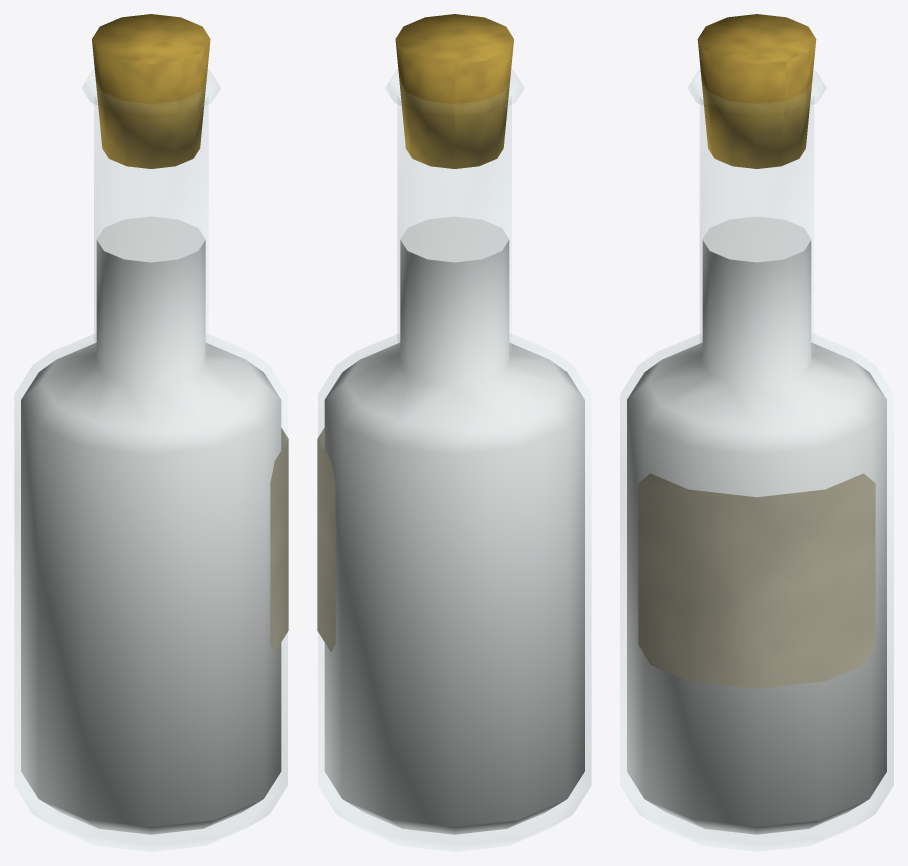
The model's file is cylindrical-long_neck.glb.
3 views of the same model, side by side, from view 1: azimuth 30°, elevation 25°; view 2: azimuth 150°, elevation 25°; view 3: azimuth 270°, elevation 25° (orthographic).
Visible parts, largest first — view 1: liquid-cylindrical-long_neck, cylindrical-long_neck, cork-cylindrical-long_neck, tag-cylindrical-long_neck; view 2: liquid-cylindrical-long_neck, cylindrical-long_neck, cork-cylindrical-long_neck, tag-cylindrical-long_neck; view 3: liquid-cylindrical-long_neck, tag-cylindrical-long_neck, cylindrical-long_neck, cork-cylindrical-long_neck.
Part boxes in pixels (x1,y1,x2,y2): liquid-cylindrical-long_neck: (21,216,281,834); cylindrical-long_neck: (15,70,287,851); cork-cylindrical-long_neck: (92,14,210,168); tag-cylindrical-long_neck: (270,428,288,652); liquid-cylindrical-long_neck: (324,216,584,834); cylindrical-long_neck: (318,70,590,851); cork-cylindrical-long_neck: (395,14,513,168); tag-cylindrical-long_neck: (317,428,335,652); liquid-cylindrical-long_neck: (627,216,886,834); tag-cylindrical-long_neck: (638,473,875,688); cylindrical-long_neck: (620,70,893,851); cork-cylindrical-long_neck: (697,14,816,168).
Size of the model in its own units: 0.0342 by 0.1052 by 0.0341.
Materials: 3 (2 with a texture image).
